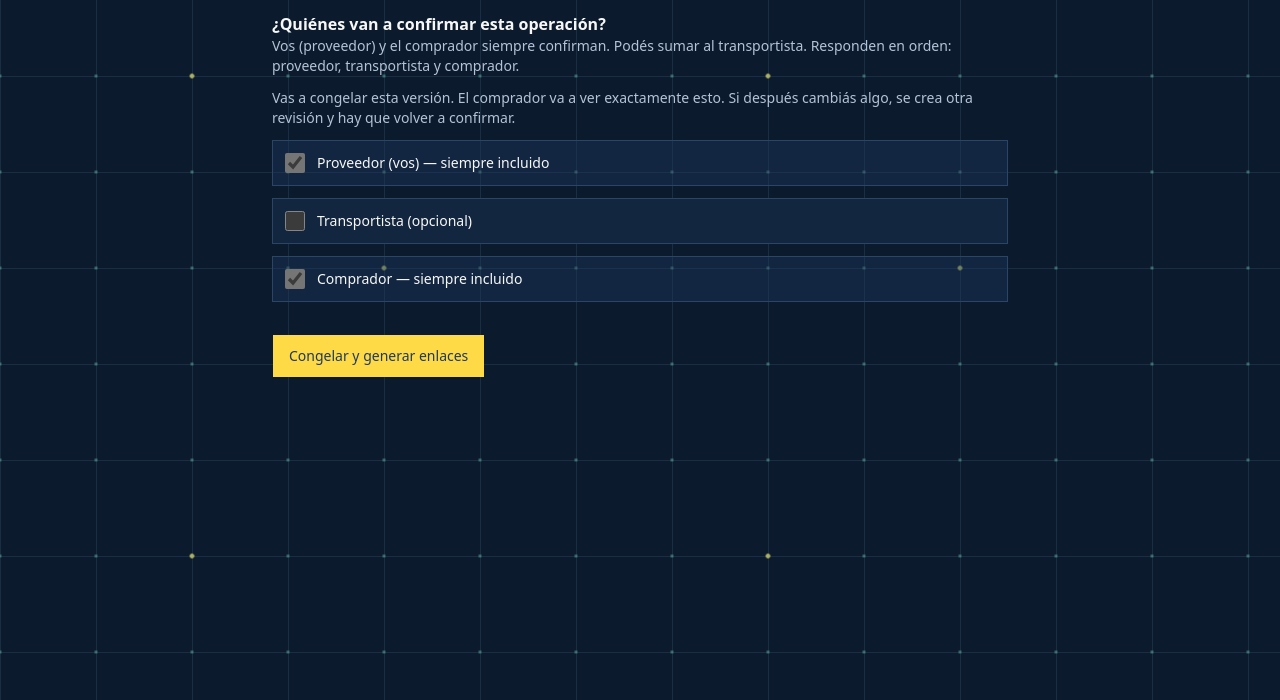
Test: ReviewContainer › muestra el sello del servidor y no inventa la versión finalizada
The width and height of the screenshot is (1280, 700).
Click the button "Congelar y generar enlaces".
click(379, 356)  # box [272, 334, 485, 378]
(page scrolled)
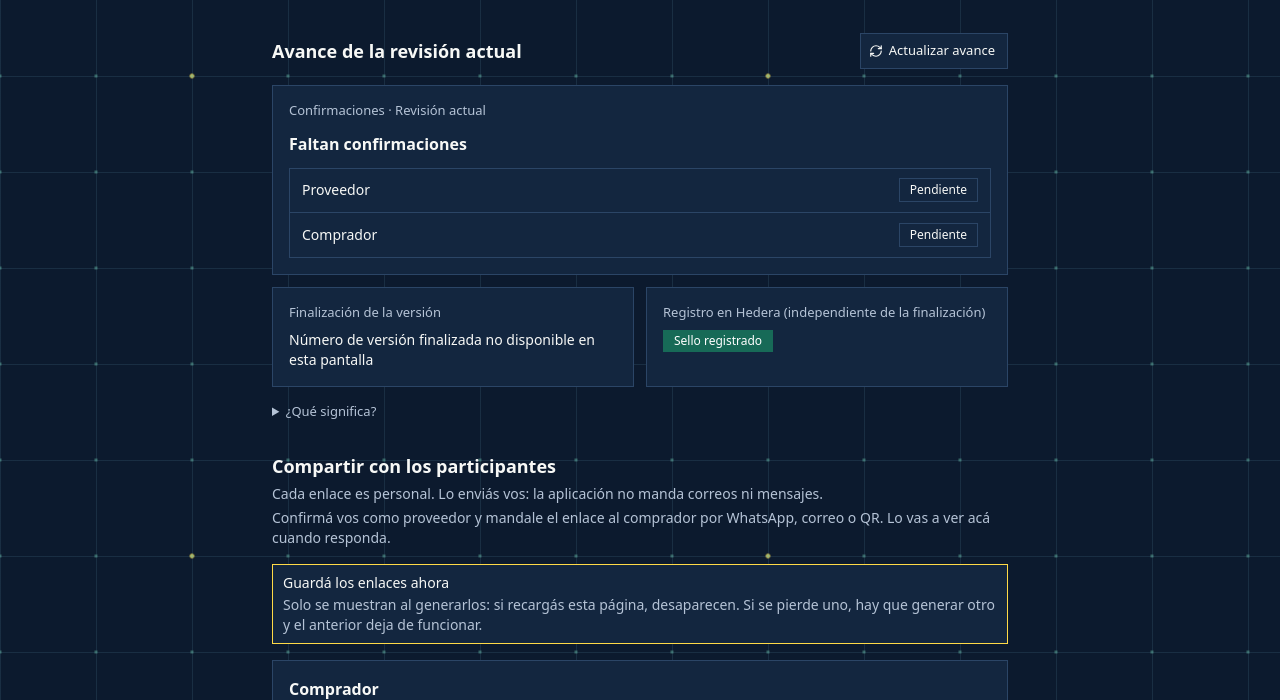
Now the text "Número de versión finalizada no disponible en esta pantalla" is shown, box [289, 330, 617, 370]
Now the text "Sello registrado" is shown, box [663, 330, 773, 352]
